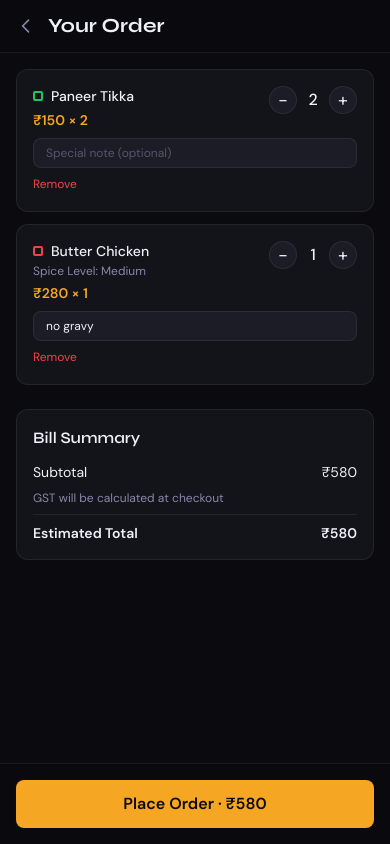
Test: PF02 - Cart › Remove item works
Remove Paneer Tikka
Click the button labelled "Remove" below "150".
click(55, 184)  # box [33,176,77,192]
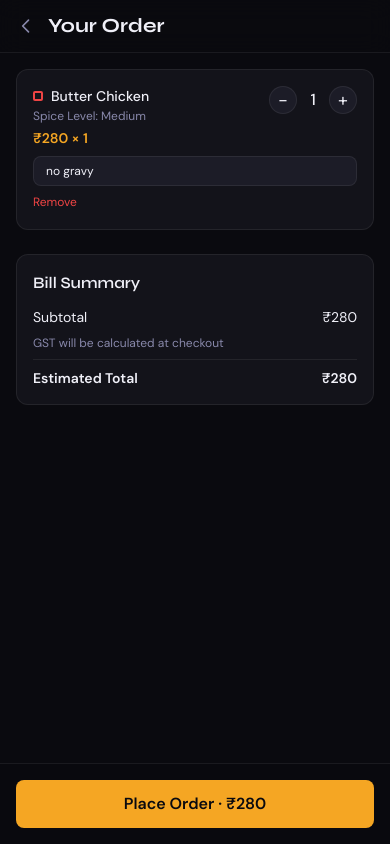
Now the text "Butter Chicken" is shown, box [51,86,149,106]
